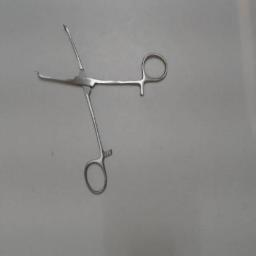Allis Tissue Forceps: (30, 13, 174, 199)
